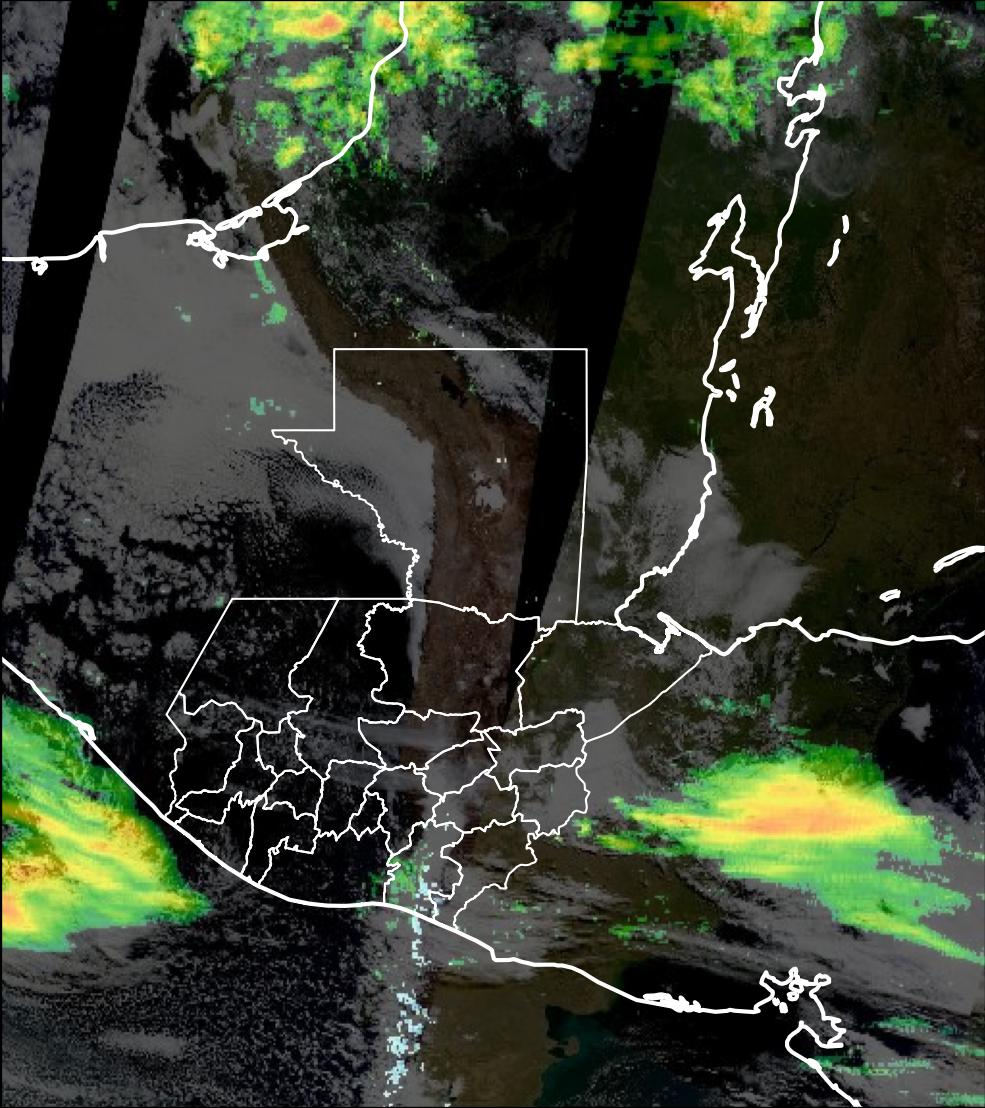precipitacion: (659, 765, 918, 862), (1, 802, 182, 931)
